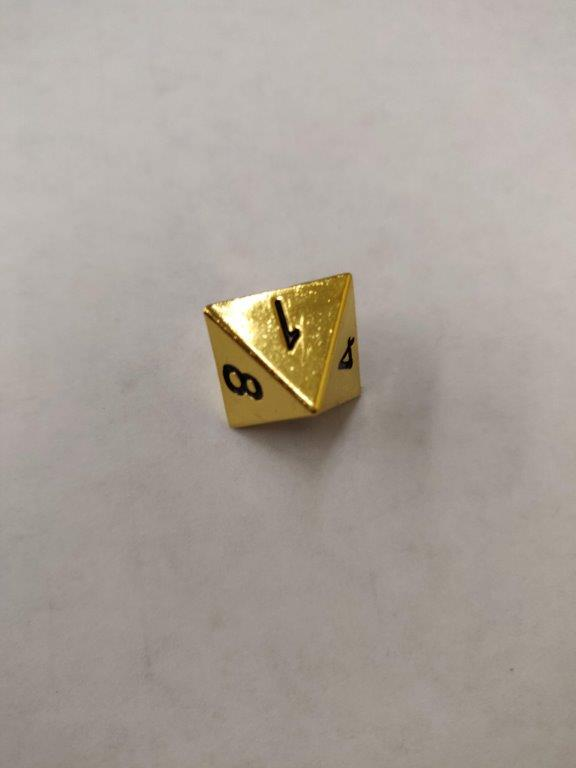d8-1: (199, 268, 369, 431)
